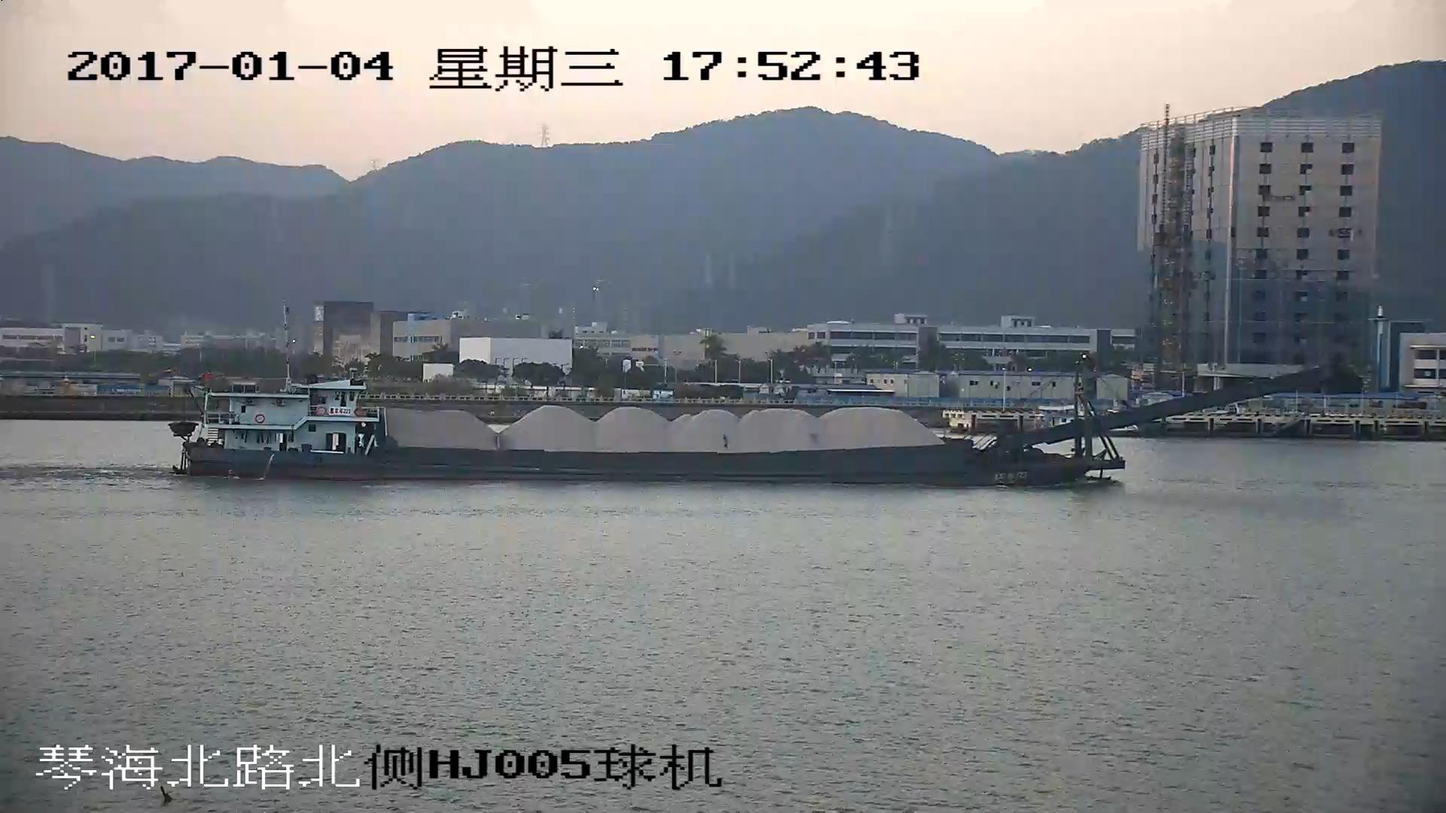ore carrier: (176, 371, 1310, 483)
